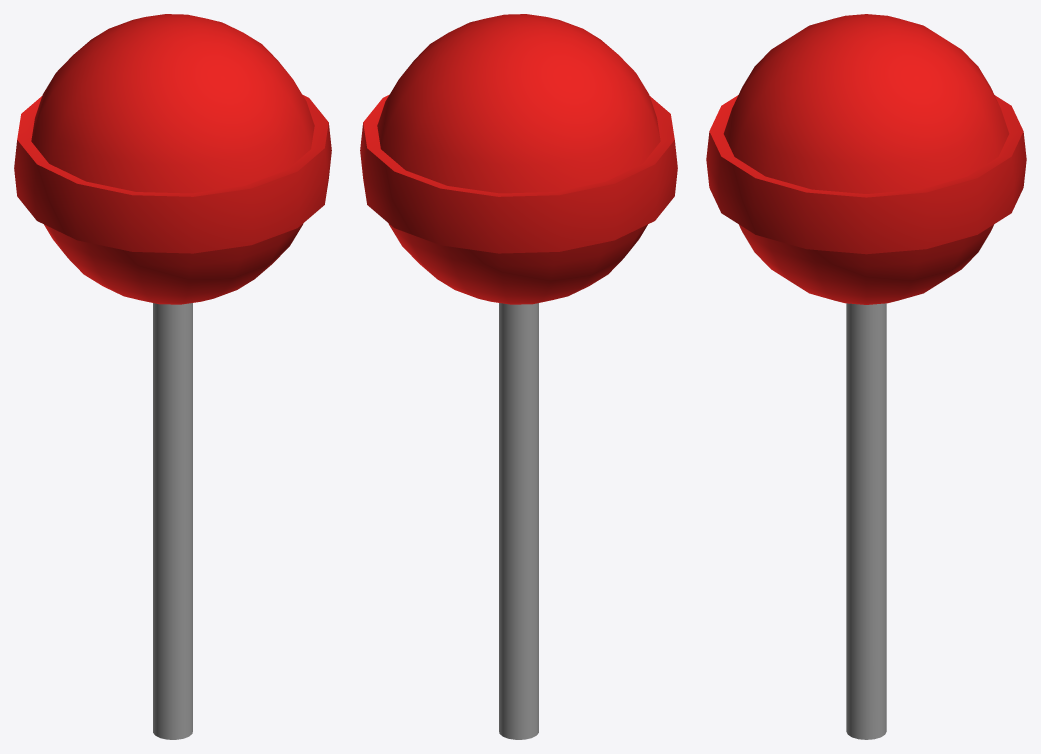
File: candy.fbx
3 renders of one model, left to right at view 1: azimuth 30°, elevation 25°; view 2: azimuth 150°, elevation 25°; view 3: azimuth 270°, elevation 25°, orthographic.
Parts seen in each view (by area): view 1: Cylinder; view 2: Cylinder; view 3: Cylinder.
Part boxes in pixels (box(x1,y1,x2,y2)): Cylinder: box(14, 14, 331, 739); Cylinder: box(360, 14, 677, 739); Cylinder: box(706, 14, 1026, 739).
Size of the model in its own units: 220 by 533 by 220.
